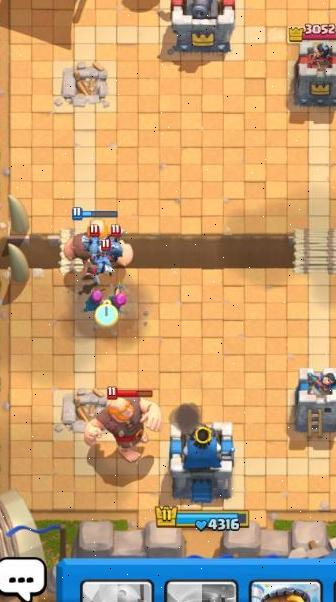enemy_giant: (79, 385, 164, 463)
enemy_minions: (100, 228, 133, 265), (79, 233, 108, 269), (86, 242, 115, 276)
player_archers: (78, 280, 108, 313), (107, 281, 132, 313)
